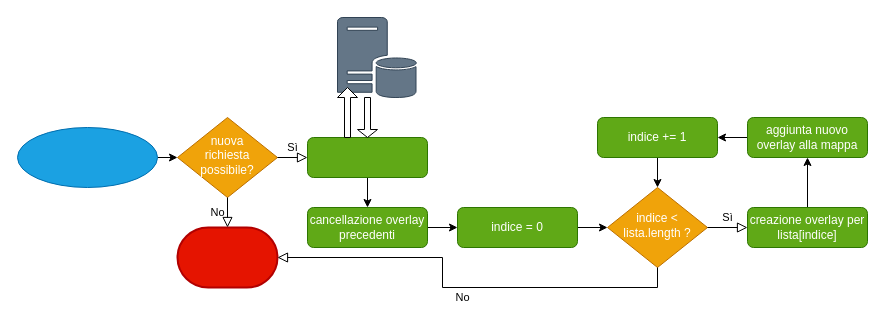
Some shapes in this 885 by 321 pixel diagram are drawn without their labels. Each missing label, with the centre of its shape:
"Evento: cambio della region" belongs at point 87,157.
"richiesta della lista di parcheggi nella region all'API" belongs at point 367,157.
"Termine" belongs at point 227,257.
